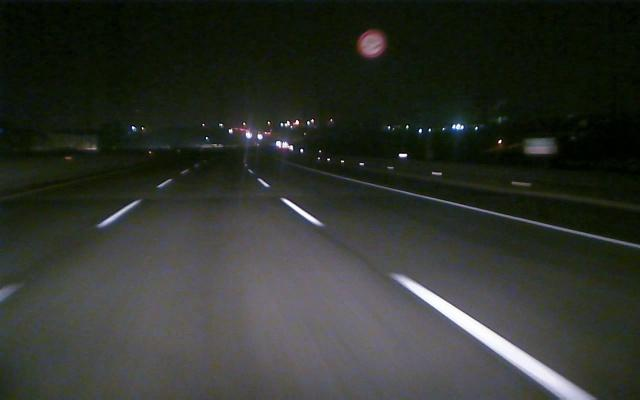lane: (256, 179, 597, 398), (2, 182, 167, 301), (363, 181, 640, 250)
